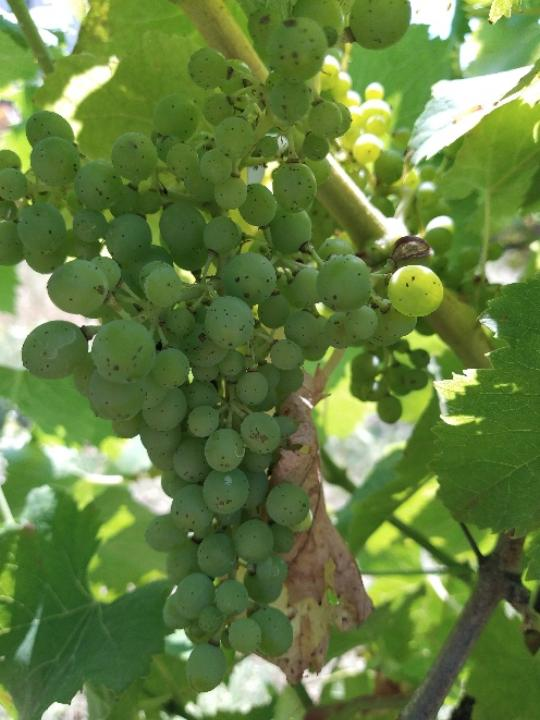grape: (0, 0, 446, 694)
